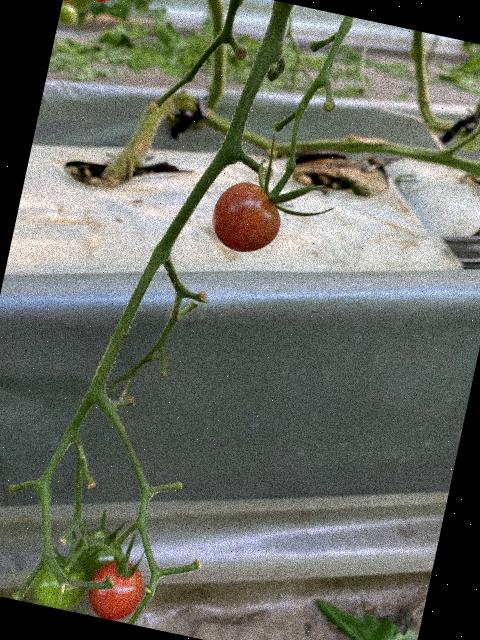l_fully_ripened: (83, 554, 151, 626)
l_green: (29, 550, 96, 614), (69, 524, 130, 588)
l_half_ripened: (207, 175, 288, 259)
